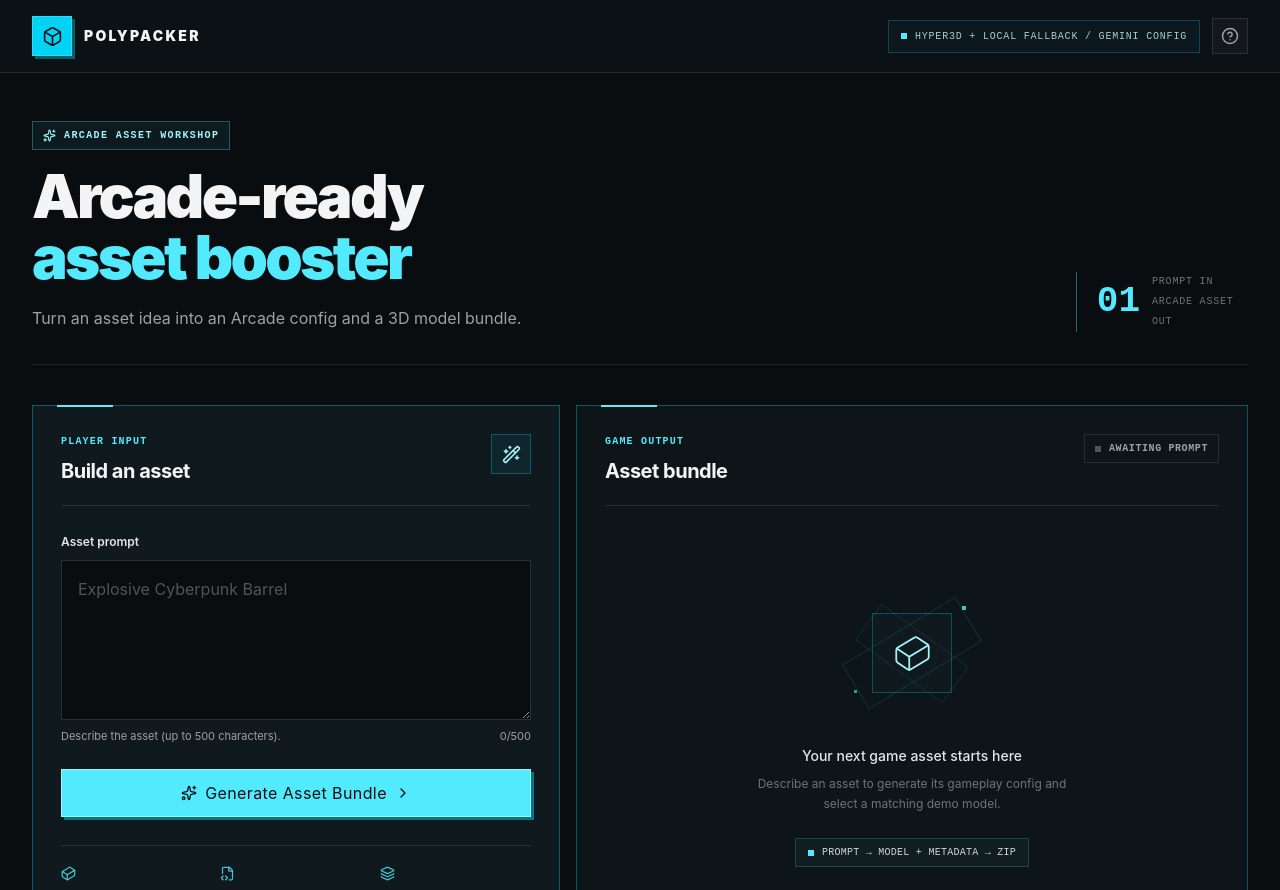
Test case: Arcade-Ready Asset Booster › shows an error and blocks ZIP if the local fallback also fails
In the text box labelled "Asset prompt": (296, 640) [61,560,531,720], type "green sticks"
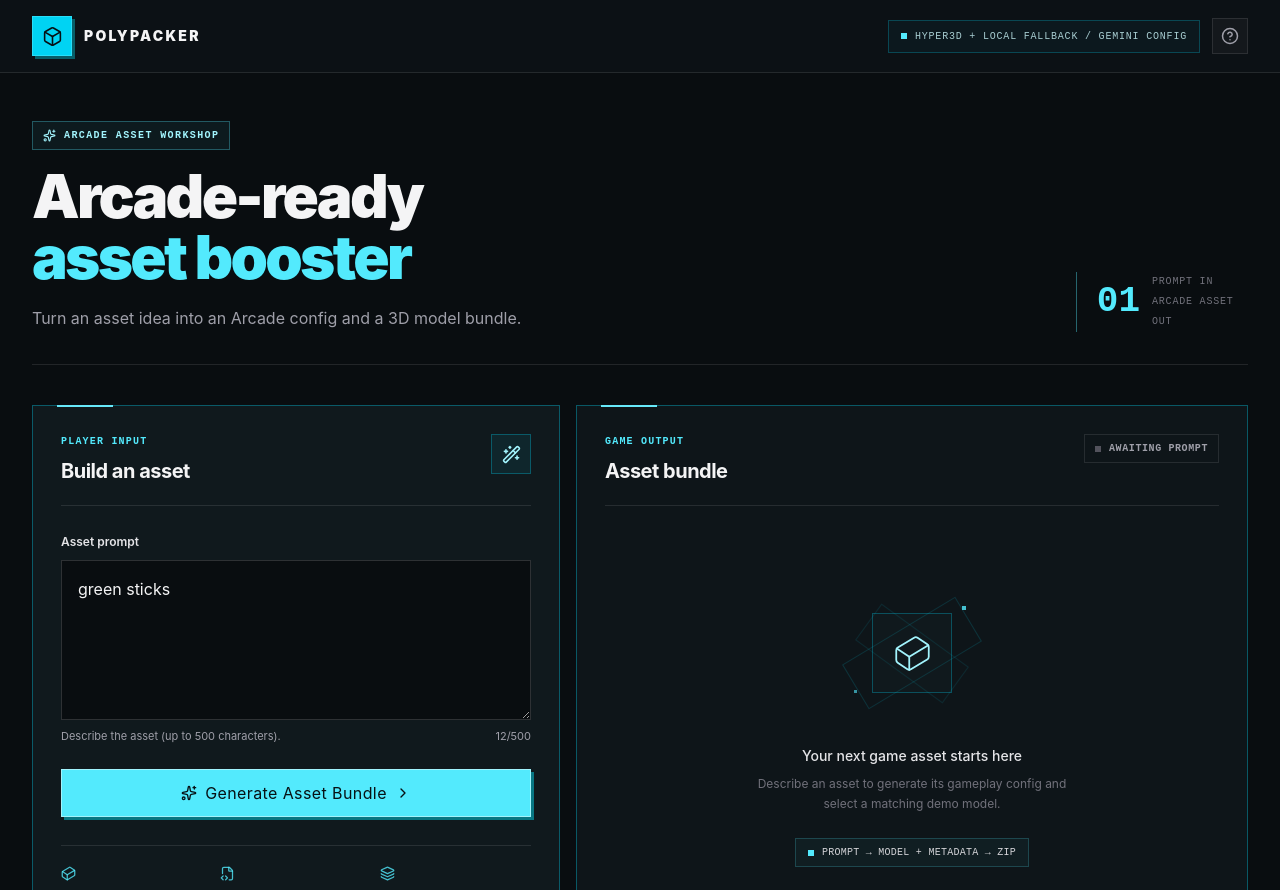
Click the button "Generate Asset Bundle": (296, 793) [61,769,531,817]
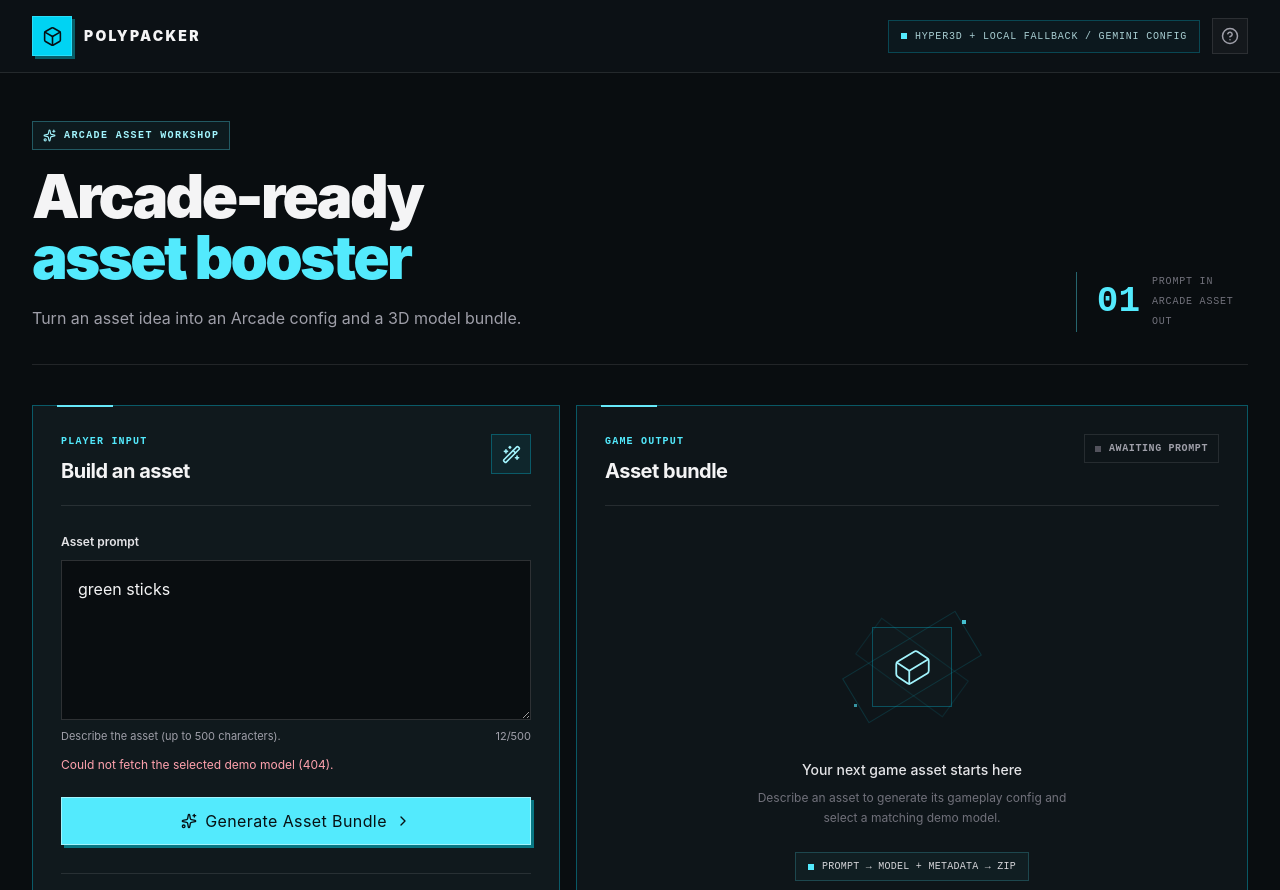
Check: the text "Could not fetch the selected demo model (404)." is shown, box [61,757,334,772]
